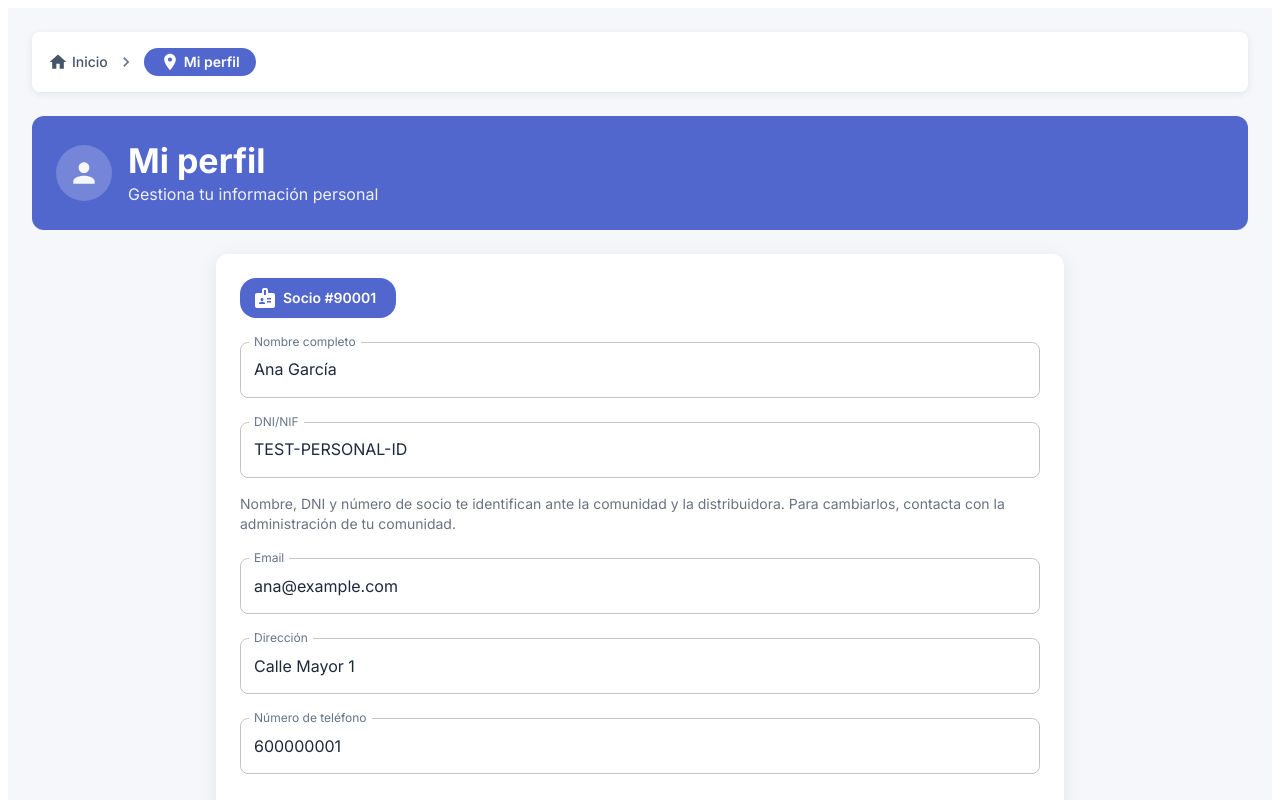
it: ProfilePage optional email › UI-PRF-002 rejects an invalid email that is there, and sends nothing
This screenshot has width=1280, height=800.
Replace the text in the field labelled "Email" with "ana@" at (640, 586), box [240,558,1040,614]
(page scrolled)
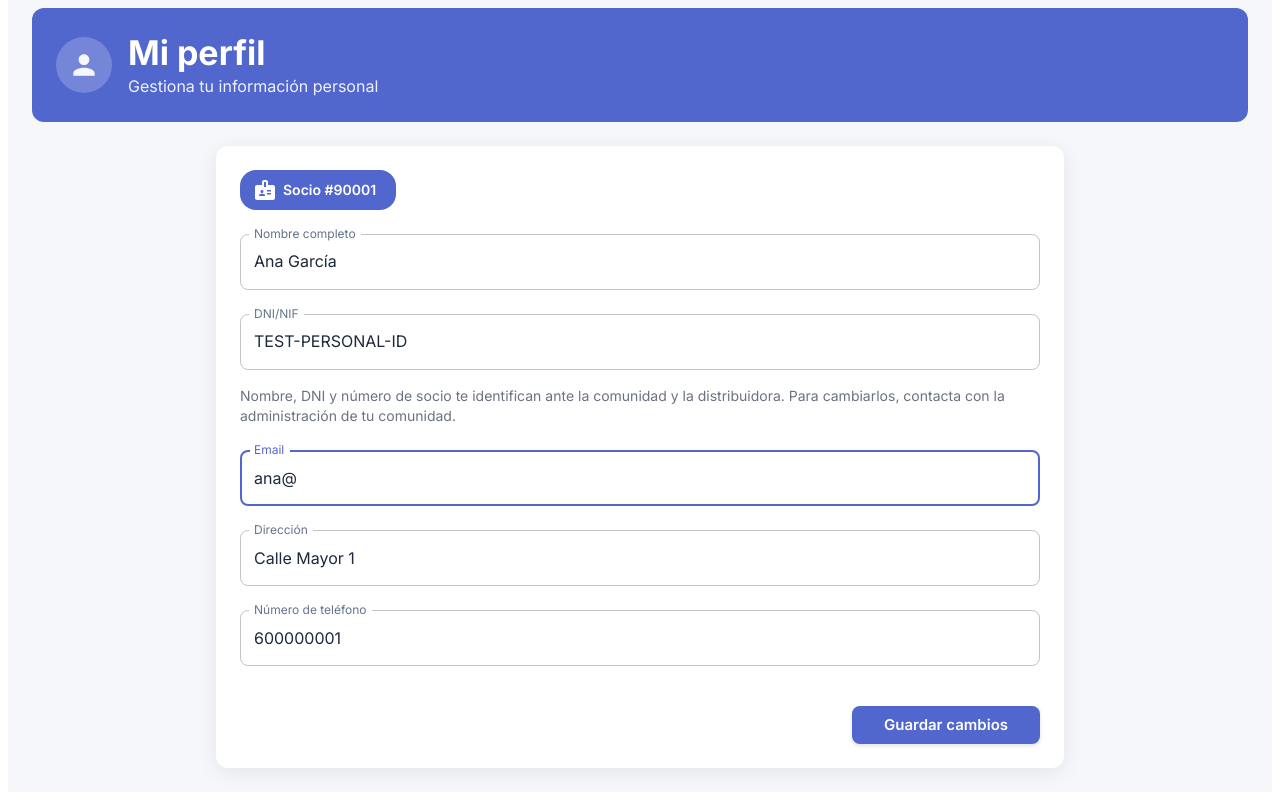
Click the button "Guardar cambios" at (946, 725), box [852,706,1040,744]
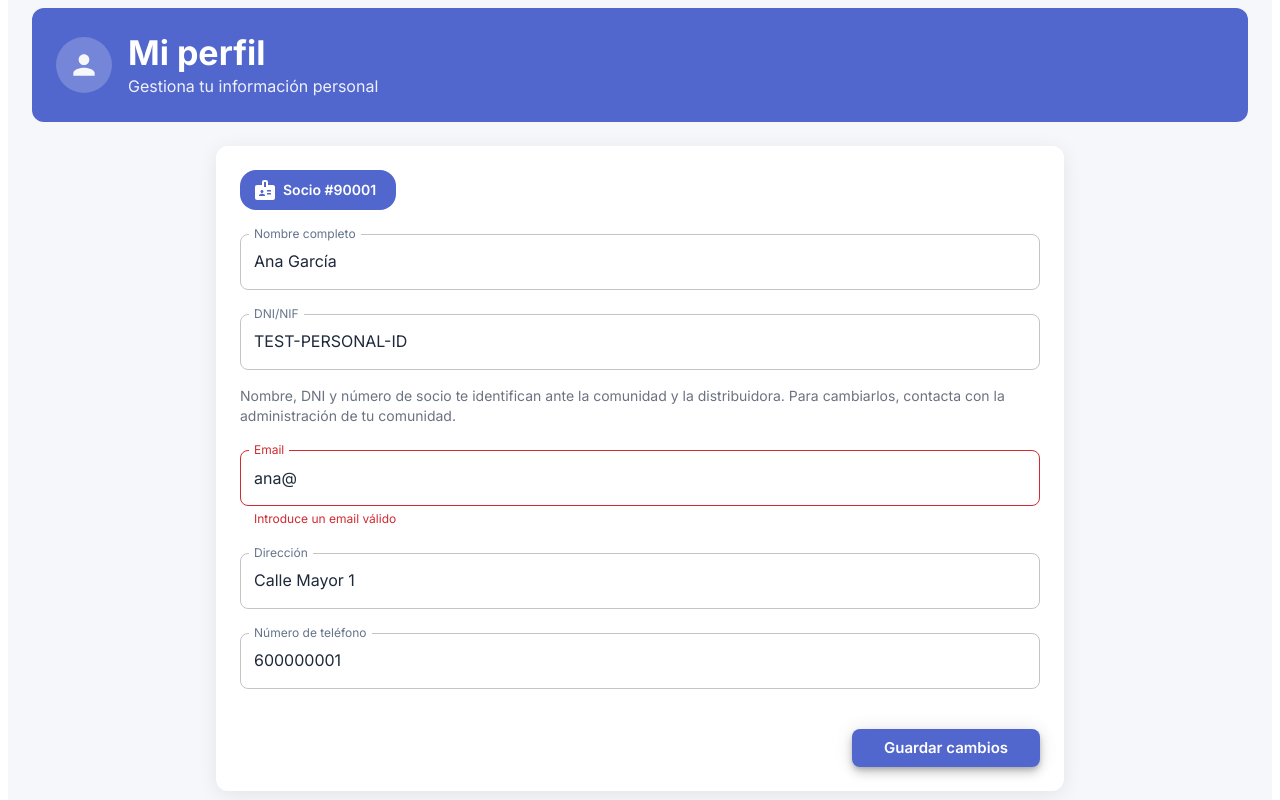
Expected: the text "Introduce un email válido" is shown, [254,511,396,526]
